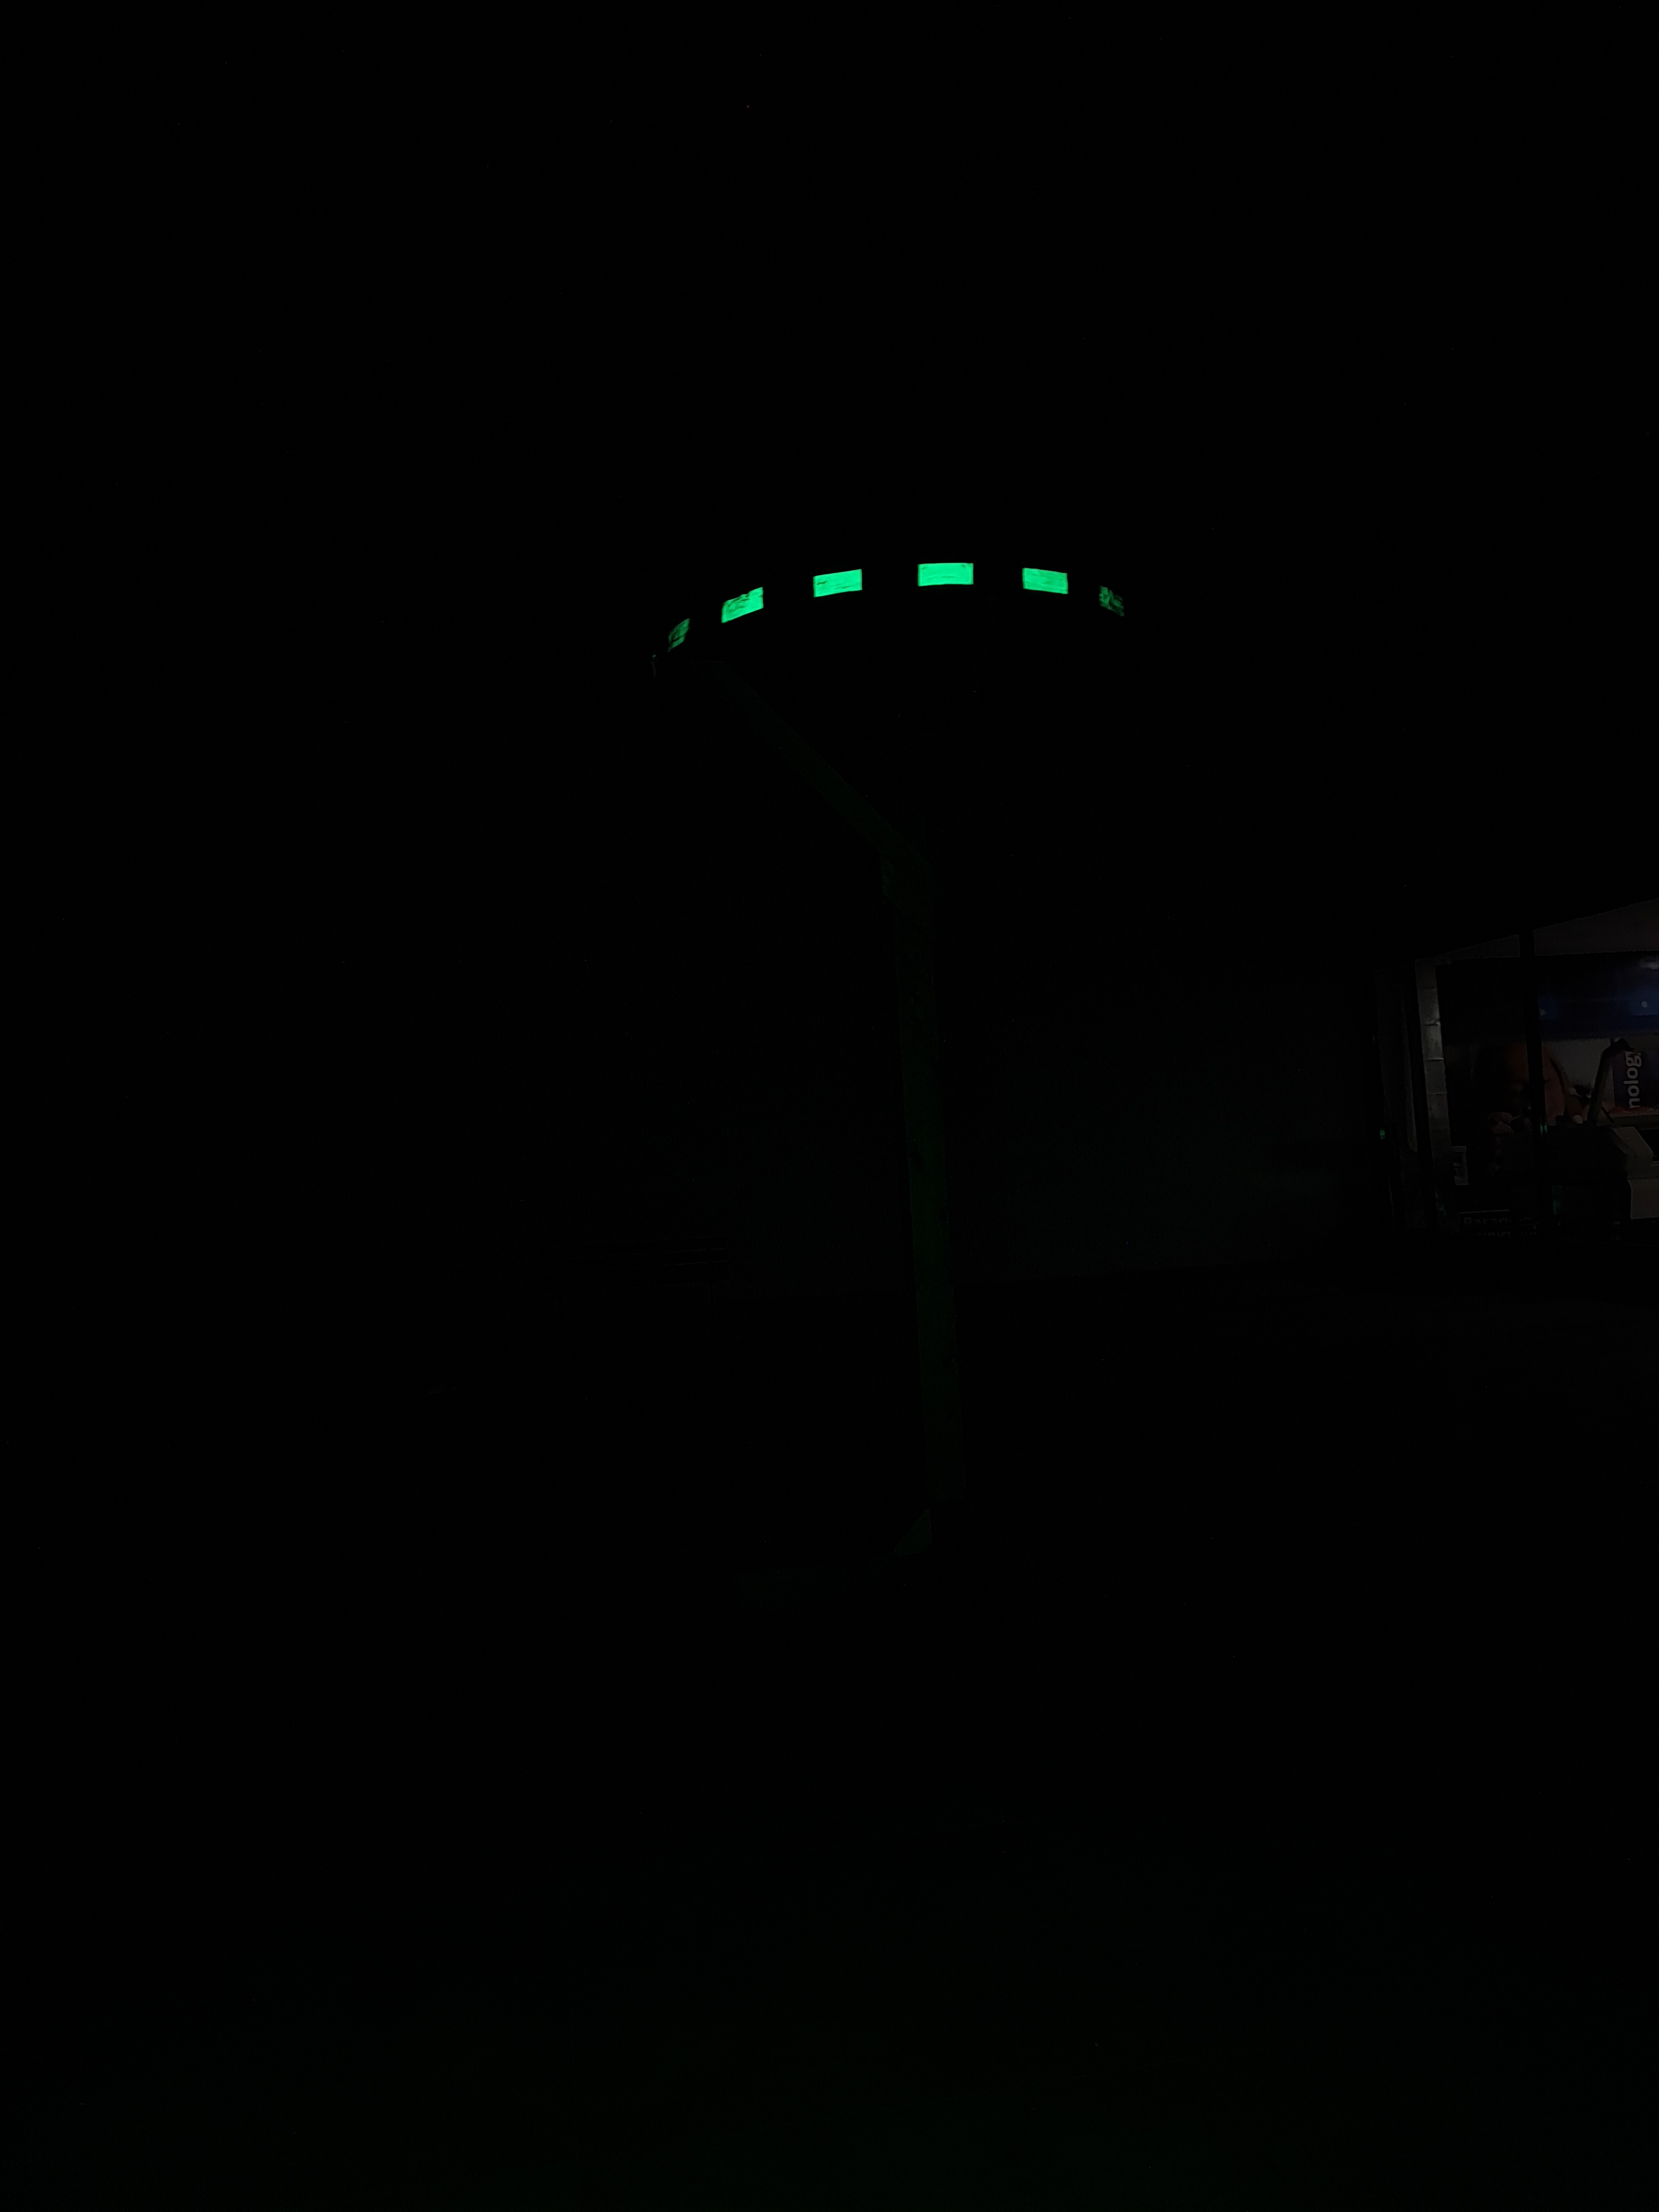hoop: (622, 495, 1150, 664)
